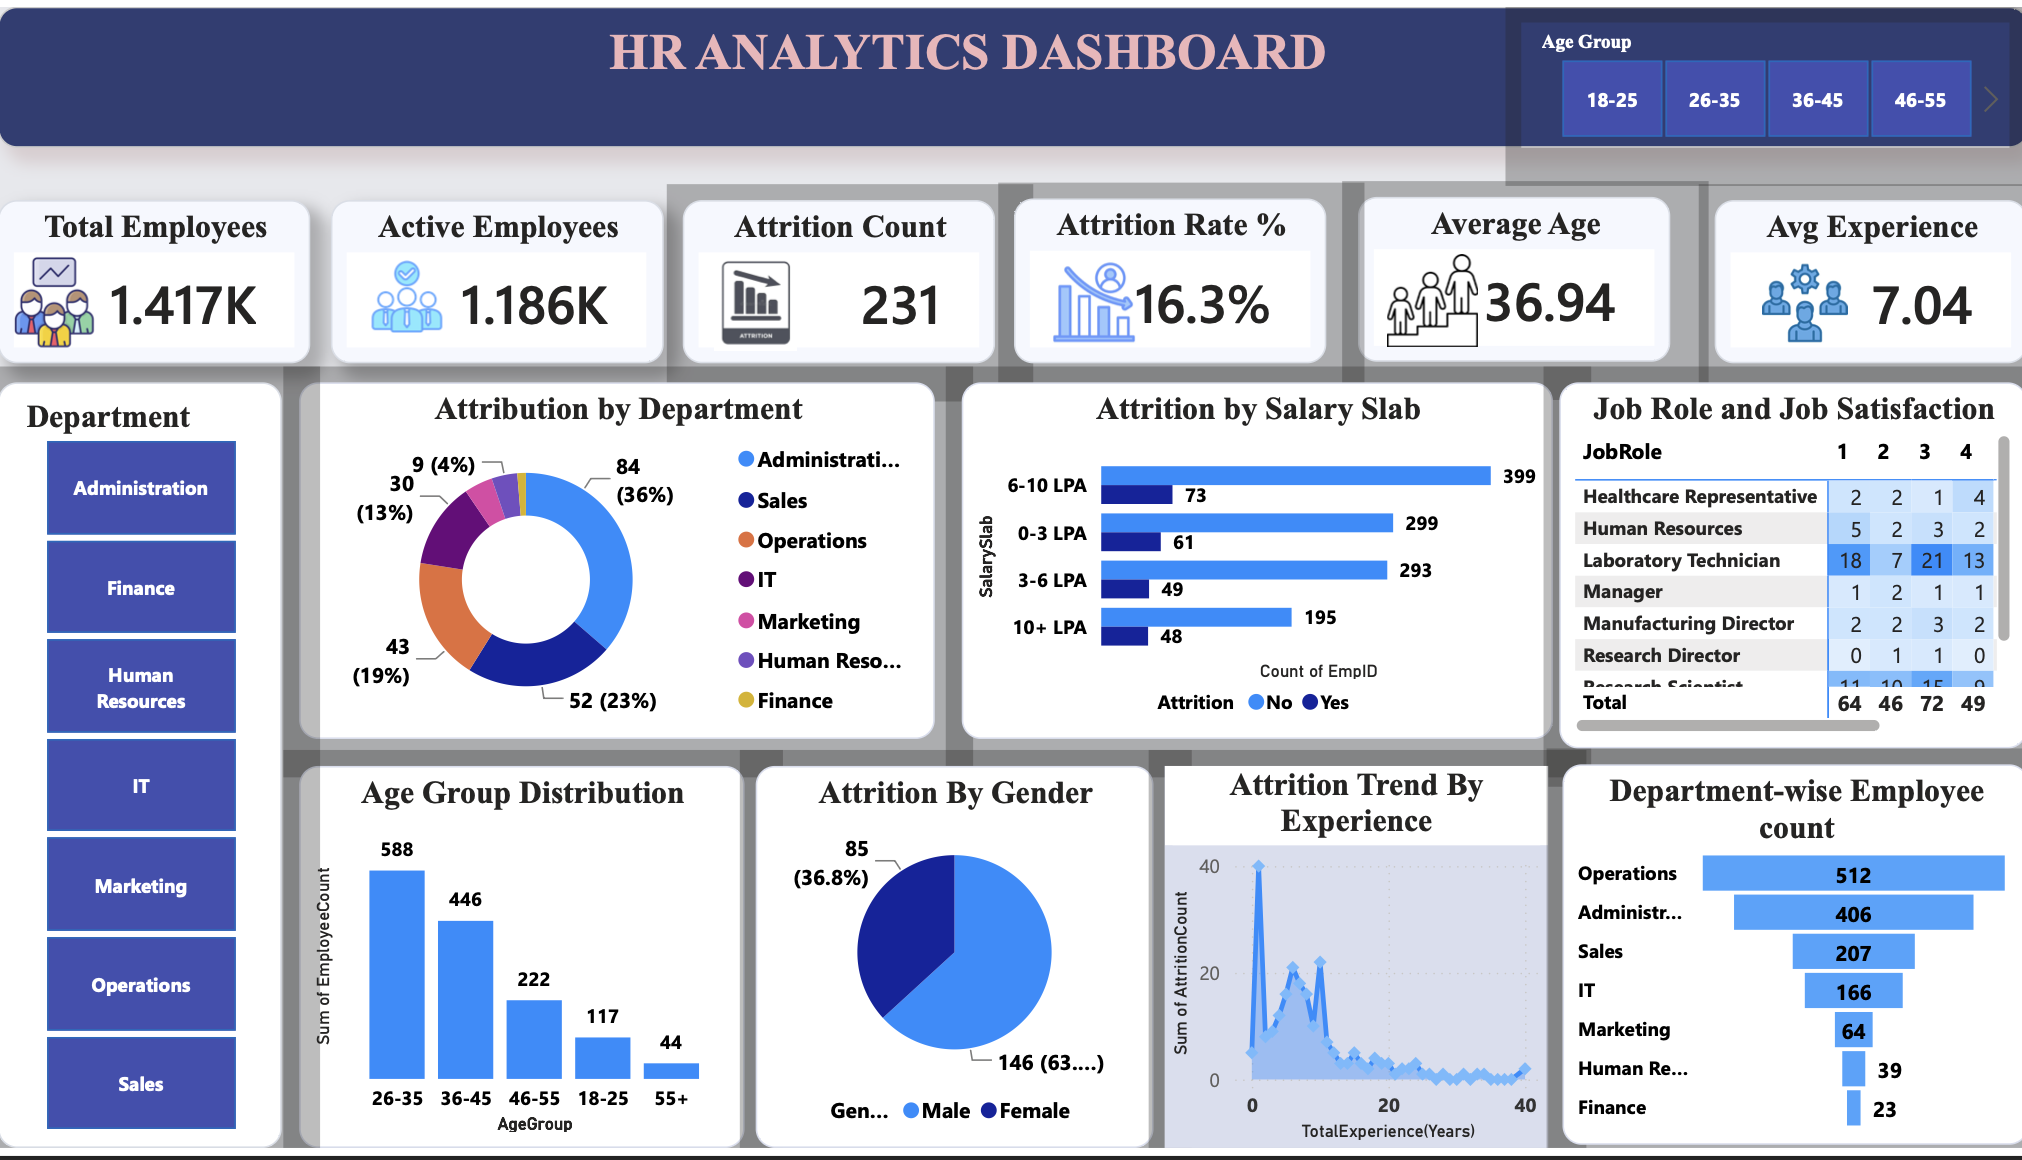

The page's visual inventory and layout, read from the dashboard file:
{"tool":"powerbi","page":{"name":"Page 1","canvas":[1280,720],"ordinal":0},"visuals":[{"type":"textbox","box":[10,0,1259,85],"z":0},{"type":"textbox","box":[0,0,1280.5,89.4],"z":1000},{"type":"cardVisual","title":"Total Employees","fields":{"Data":["CountNonNull(HR_Analytics-4.EmpID)"]},"box":[0,121.9,197,103.5],"z":2000},{"type":"cardVisual","title":"Active Employees","fields":{"Data":["CountNonNull(HR_Analytics-4.EmployeeCount)"]},"box":[209.8,121.9,209.8,103.5],"z":3000},{"type":"cardVisual","title":"Attrition Count","fields":{"Data":["Sum(HR_Analytics-4.AttritionCount)"]},"box":[432.3,121.9,197,103.5],"z":4000},{"type":"cardVisual","title":"Average Age","fields":{"Data":["Avg(HR_Analytics-4.Age)"]},"box":[858.1,120.1,197.4,104.4],"z":5000},{"type":"cardVisual","title":"Avg Experience","fields":{"Data":["Avg(HR_Analytics-4.YearsatCompany)"]},"box":[1082.8,121.9,197,103.5],"z":6000},{"type":"cardVisual","title":"Attrition Rate %","fields":{"Data":["HR_Analytics-4.Attrition Rate %"]},"box":[640.9,121.5,197.2,103.9],"z":7000},{"type":"image","box":[629.3,160.2,125.9,52.9],"z":8000},{"type":"image","box":[1055.5,160.2,170.2,54.3],"z":9000},{"type":"image","box":[178.8,160.2,158.7,45.8],"z":10000},{"type":"image","box":[0,155.9,71.5,61.5],"z":11000},{"type":"image","box":[404.7,155.9,145.9,61.5],"z":12000},{"type":"image","box":[823.8,155.9,161.6,58.6],"z":13000},{"type":"donutChart","title":"Attribution by Department","fields":{"Category":["HR_Analytics-4.Department"],"Y":["Sum(HR_Analytics-4.AttritionCount)"]},"box":[189.9,236.7,401.1,225.4],"z":14000},{"type":"clusteredBarChart","title":"Attrition by Salary Slab","fields":{"Category":["HR_Analytics-4.SalarySlab"],"Series":["HR_Analytics-4.Attrition"],"Y":["CountNonNull(HR_Analytics-4.EmpID)"]},"box":[608,236.7,372.8,225.4],"z":15000},{"type":"pivotTable","title":"Job Role and Job Satisfaction","fields":{"Columns":["HR_Analytics-4.JobSatisfaction"],"Rows":["HR_Analytics-4.JobRole"],"Values":["Sum(HR_Analytics-4.AttritionCount)"]},"box":[985,236.7,294.8,231],"z":16000},{"type":"columnChart","title":"Age Group Distribution","fields":{"Category":["HR_Analytics-4.AgeGroup"],"Y":["Sum(HR_Analytics-4.EmployeeCount)"]},"box":[189.9,479.1,280.6,240.9],"z":17000},{"type":"pieChart","title":"Attrition By Gender","fields":{"Category":["HR_Analytics-4.Gender"],"Y":["Sum(HR_Analytics-4.AttritionCount)"]},"box":[477.6,479.1,250.9,240.9],"z":18000},{"type":"areaChart","title":"Attrition Trend By Experience","fields":{"Category":["HR_Analytics-4.TotalExperience(Years)"],"Y":["Sum(HR_Analytics-4.AttritionCount)"]},"box":[735.6,479.1,242.4,240.9],"z":19000},{"type":"funnel","title":"Department-wise Employee count","fields":{"Category":["HR_Analytics-4.Department"],"Y":["CountNonNull(HR_Analytics-4.EmpID)"]},"box":[986.6,477.6,294,240.3],"z":20000},{"type":"slicer","fields":{"Values":["HR_Analytics-4.Department"]},"box":[0,236.7,178.6,483.3],"z":21000},{"type":"slicer","fields":{"Values":["HR_Analytics-4.AgeGroup"]},"box":[960.9,9.9,307.6,79.4],"z":22000}]}

Visuals, with their boxes in screenshot pixels (x1, y1, x2, y2), scaled from the page's 1280x720 canvas onto the 2022x1160 screenshot:
textbox: x1=16, y1=0, x2=2005, y2=137
textbox: x1=0, y1=0, x2=2021, y2=144
"Total Employees" cardVisual: x1=0, y1=196, x2=311, y2=363
"Active Employees" cardVisual: x1=331, y1=196, x2=663, y2=363
"Attrition Count" cardVisual: x1=683, y1=196, x2=994, y2=363
"Average Age" cardVisual: x1=1356, y1=193, x2=1667, y2=362
"Avg Experience" cardVisual: x1=1710, y1=196, x2=2021, y2=363
"Attrition Rate %" cardVisual: x1=1012, y1=196, x2=1324, y2=363
image: x1=994, y1=258, x2=1193, y2=343
image: x1=1667, y1=258, x2=1936, y2=346
image: x1=282, y1=258, x2=533, y2=332
image: x1=0, y1=251, x2=113, y2=350
image: x1=639, y1=251, x2=870, y2=350
image: x1=1301, y1=251, x2=1557, y2=346
"Attribution by Department" donutChart: x1=300, y1=381, x2=934, y2=744
"Attrition by Salary Slab" clusteredBarChart: x1=960, y1=381, x2=1549, y2=744
"Job Role and Job Satisfaction" pivotTable: x1=1556, y1=381, x2=2021, y2=754
"Age Group Distribution" columnChart: x1=300, y1=772, x2=743, y2=1159
"Attrition By Gender" pieChart: x1=754, y1=772, x2=1151, y2=1159
"Attrition Trend By Experience" areaChart: x1=1162, y1=772, x2=1545, y2=1159
"Department-wise Employee count" funnel: x1=1559, y1=769, x2=2021, y2=1157
slicer - HR_Analytics-4.Department: x1=0, y1=381, x2=282, y2=1159
slicer - HR_Analytics-4.AgeGroup: x1=1518, y1=16, x2=2004, y2=144
